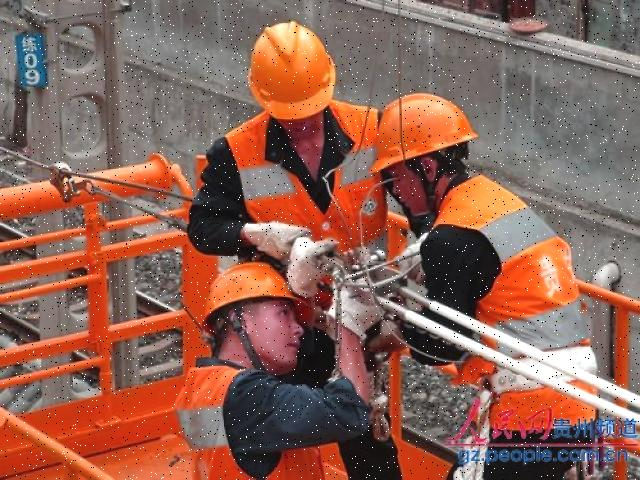Helmet: (242, 13, 342, 123), (363, 89, 476, 186), (197, 256, 316, 342)
